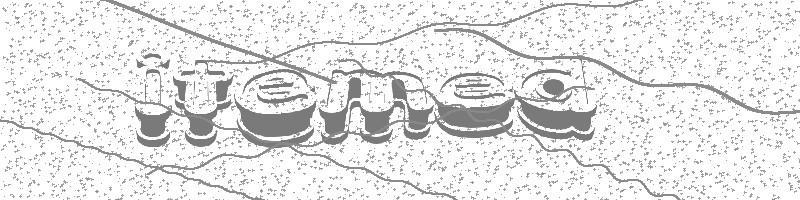d: (517, 56, 598, 142)
e: (234, 68, 317, 148), (435, 72, 515, 140)
i: (133, 51, 171, 148)
m: (319, 67, 435, 146)
t: (173, 59, 234, 148)
